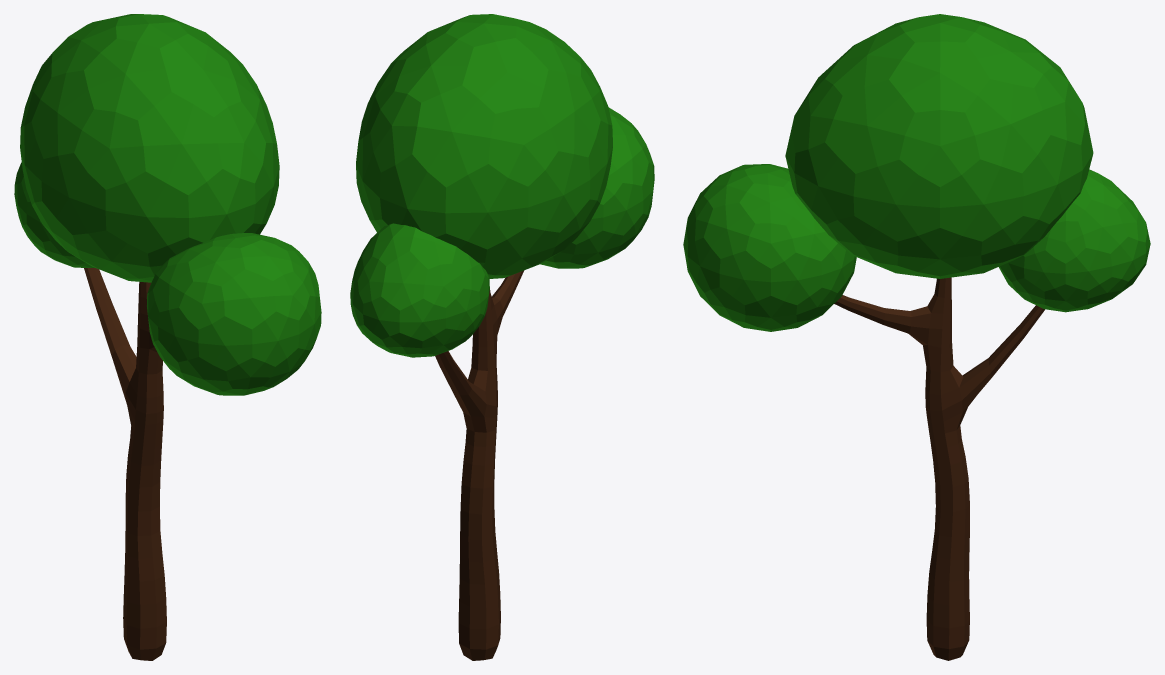
Rendered from low_poly_tree.glb.
The picture shows the model from 3 angles, left to right: view 1: azimuth 30°, elevation 25°; view 2: azimuth 150°, elevation 25°; view 3: azimuth 270°, elevation 25°; orthographic projection.
Parts seen in each view (by area): view 1: Cube; view 2: Cube; view 3: Cube.
Boxes of the visible parts, <box> form: Cube: <box>14,14,321,660</box>; Cube: <box>350,14,654,660</box>; Cube: <box>683,14,1150,660</box>.
Size of the model in its own units: 331 by 941 by 626.
